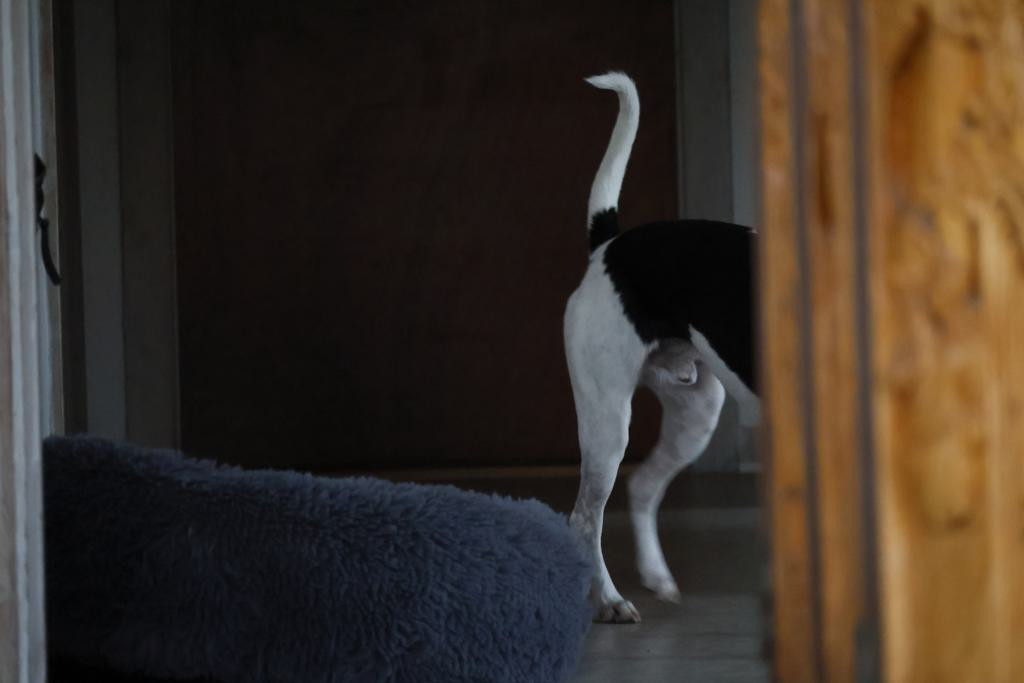Dog: (537, 63, 773, 629)
